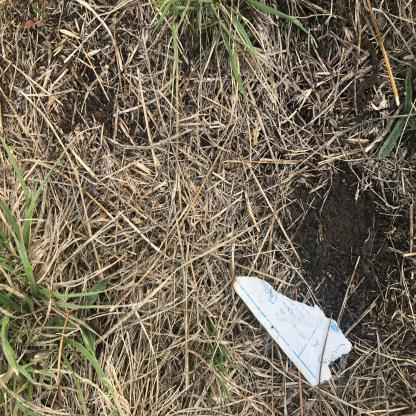trash: (18, 298, 115, 416)
